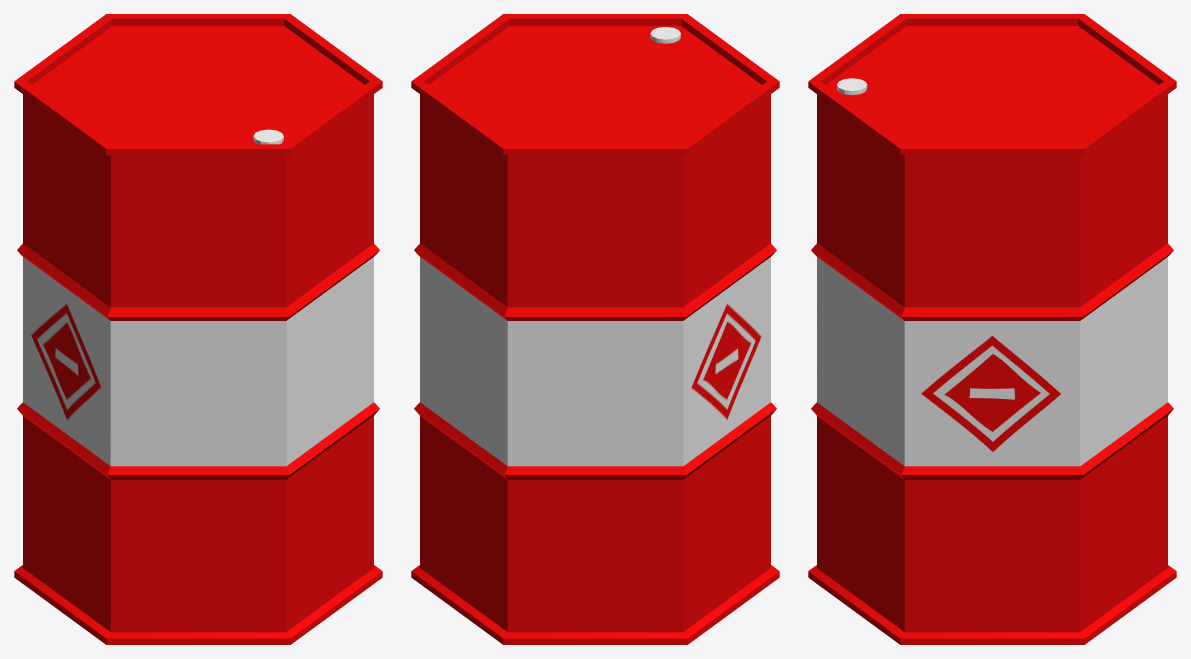
The model's file is Barrel.fbx.
3 renders of one model, left to right at view 1: azimuth 30°, elevation 25°; view 2: azimuth 150°, elevation 25°; view 3: azimuth 270°, elevation 25°, orthographic.
Visible parts, largest first — view 1: Barrel; view 2: Barrel; view 3: Barrel.
Part boxes in pixels (x1,y1,x2,y2): Barrel: (14,14,382,644); Barrel: (411,14,779,644); Barrel: (808,14,1176,644).
Size of the model in its own units: 90.93 by 105 by 156.
